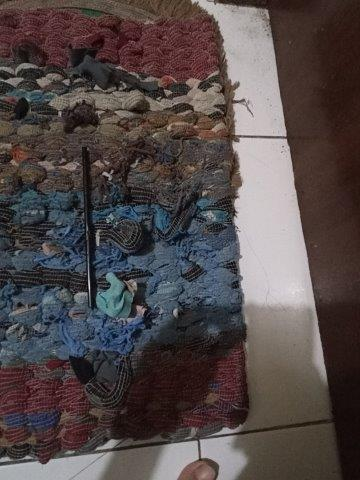sedotan: (81, 147, 96, 309)
